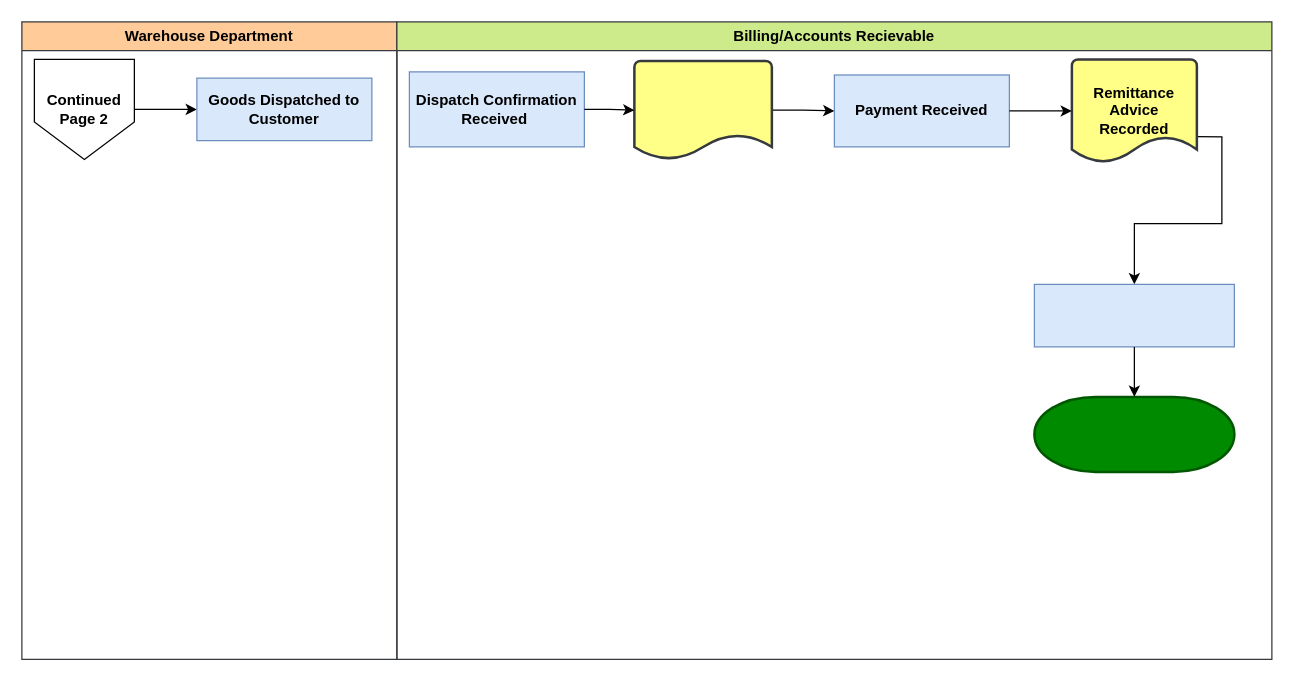
The diagram is 1294 pixels wide and 681 high, and some of its shapes have lost their labels. The centre of each missing label's shape, as x and y in pixels:
"Cash Posted to Accounts Receivable" goes at (1133,315).
"END" goes at (1133,433).
"Invoice Generated & Sent to Customer" goes at (702,109).
